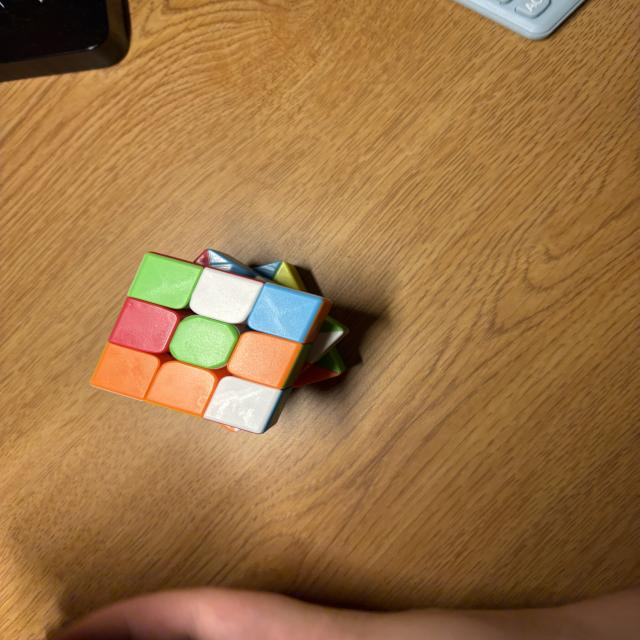Rubiks Cube: (87, 251, 350, 434)
